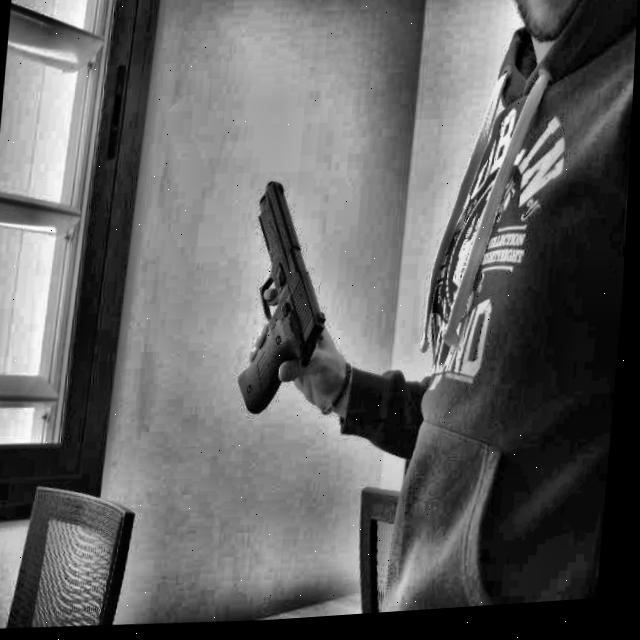pistol: (232, 164, 332, 425)
